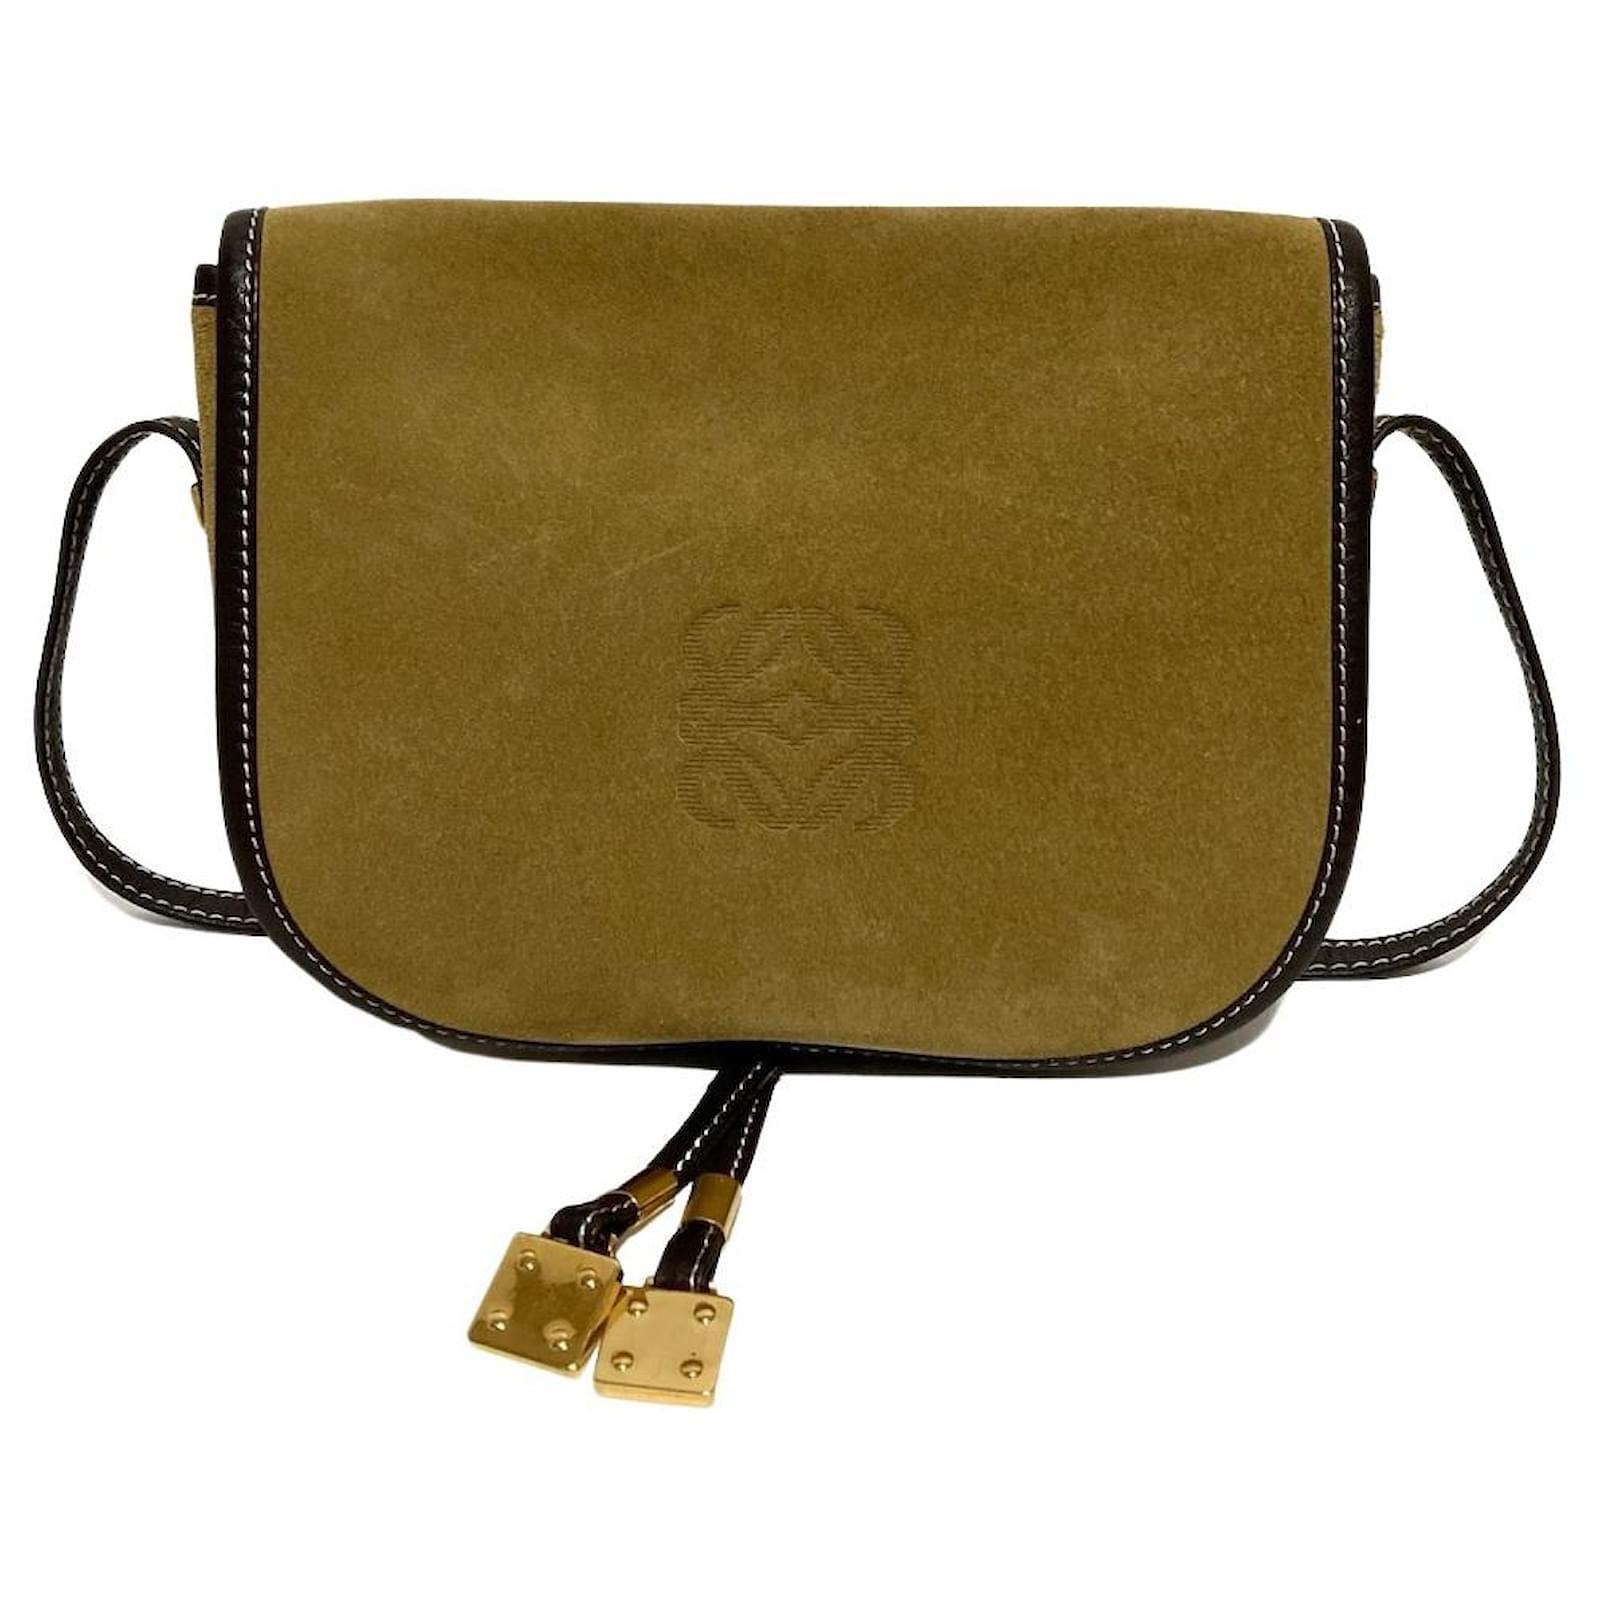LOEWE: (662, 582, 936, 853)
